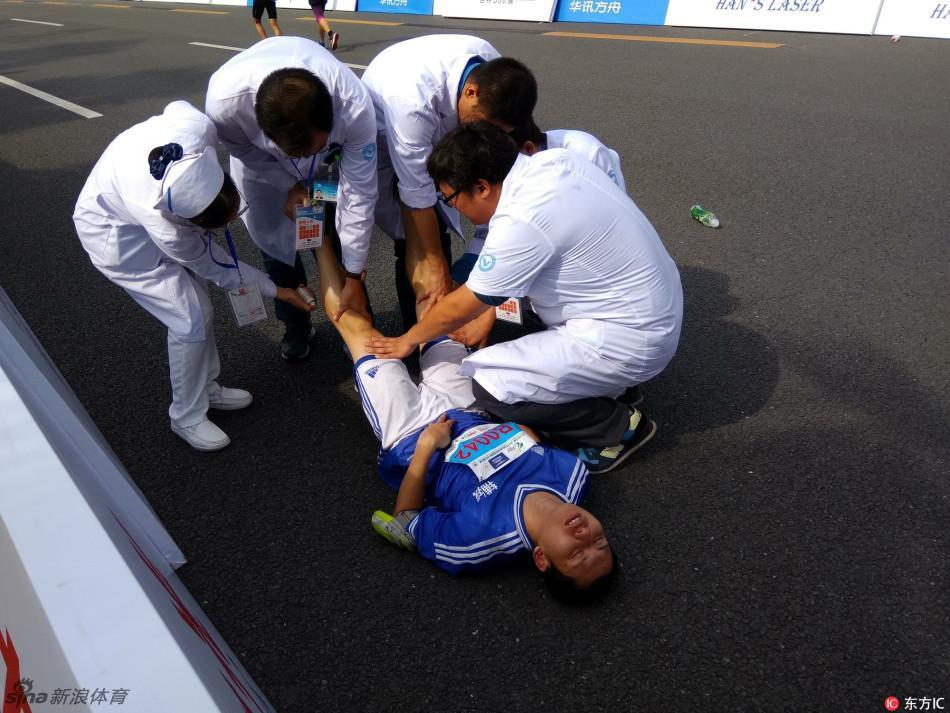Fall-Detected: (321, 244, 628, 616)
